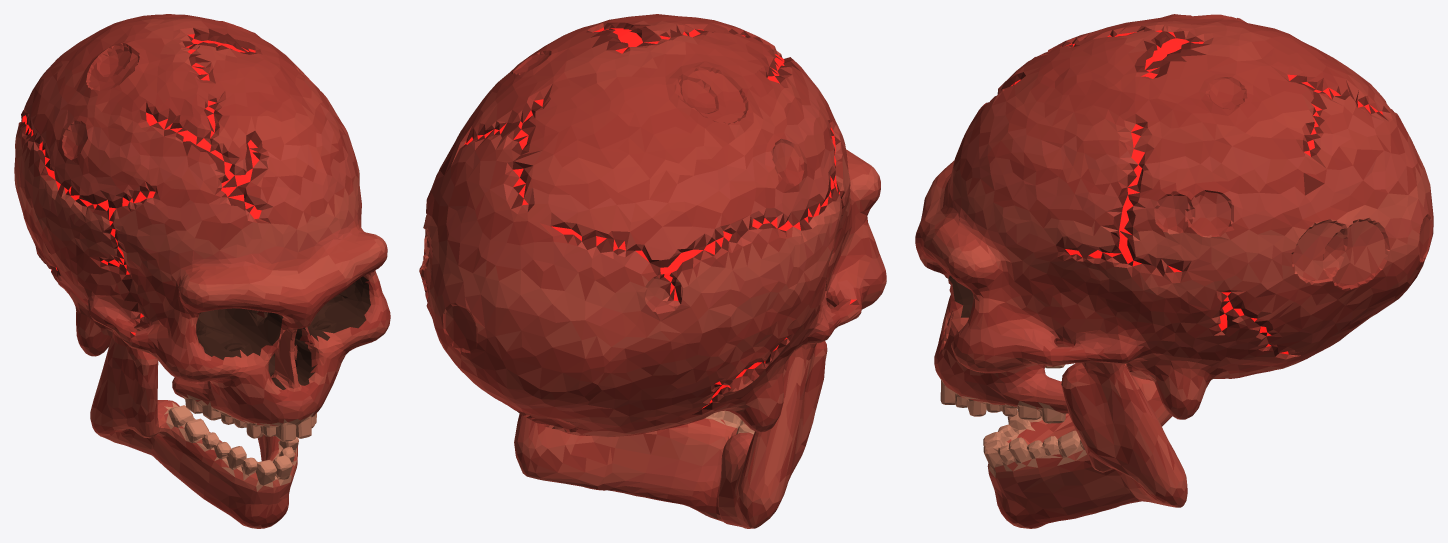
File: halloween_planet_far.glb
The picture shows the model from 3 angles, left to right: view 1: azimuth 30°, elevation 25°; view 2: azimuth 150°, elevation 25°; view 3: azimuth 270°, elevation 25°; orthographic projection. The views are drawn at different scales.
Parts seen in each view (by area): view 1: HW_Planet_Surface_Far; view 2: HW_Planet_Surface_Far; view 3: HW_Planet_Surface_Far.
Part boxes in pixels (<box>): HW_Planet_Surface_Far: <box>14,14,390,528</box>; HW_Planet_Surface_Far: <box>419,14,886,528</box>; HW_Planet_Surface_Far: <box>915,14,1433,528</box>.
Size of the model in its own units: 31.14 by 46.94 by 44.69.
